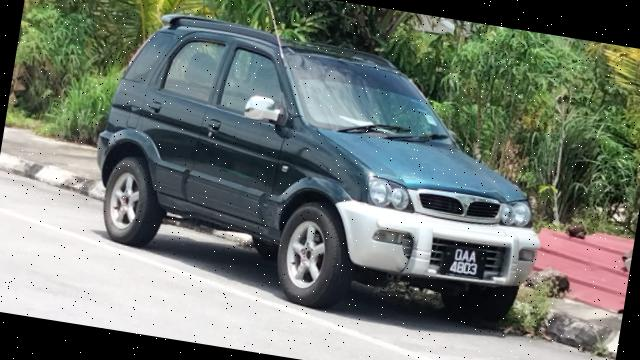License_Plate: (439, 244, 489, 284)
car: (72, 1, 572, 346)
